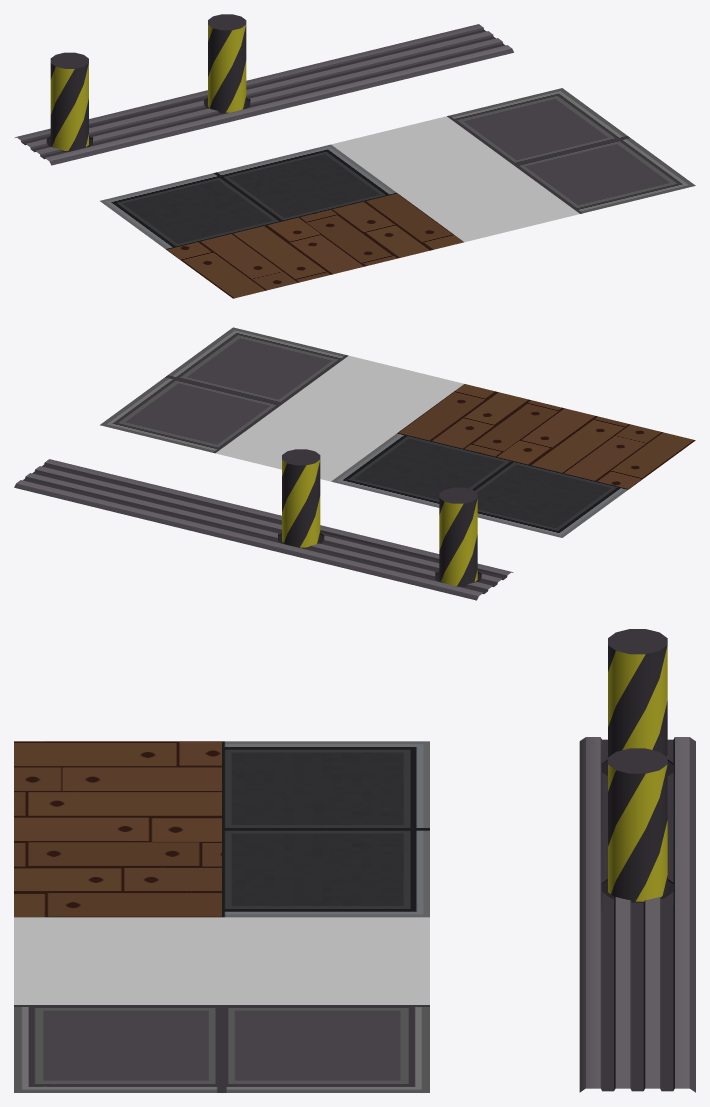
File: AirlockFloorTile.fbx
3 views of the same model, one above another, from view 1: azimuth 30°, elevation 25°; view 2: azimuth 150°, elevation 25°; view 3: azimuth 270°, elevation 25° (orthographic). The views are drawn at different scales.
Visible parts, largest first — view 1: AirlockFloorTileNS, AirlockFloorTileEW, AirlockFloorTrack, AirlockFloorTrackV2Bolts, AirlockFloorTrackV2; view 2: AirlockFloorTileNS, AirlockFloorTileEW, AirlockFloorTrack, AirlockFloorTrackV2Bolts, AirlockFloorTrackV2; view 3: AirlockFloorTileNS, AirlockFloorTileEW, AirlockFloorTrack, AirlockFloorTrackV2Bolts, AirlockFloorTrackV2.
Boxes of the visible parts, x1,y1,x2,y2 form: AirlockFloorTileNS: (100, 144, 463, 298); AirlockFloorTileEW: (331, 88, 695, 242); AirlockFloorTrack: (247, 24, 513, 108); AirlockFloorTrackV2Bolts: (50, 14, 246, 150); AirlockFloorTrackV2: (15, 80, 282, 165); AirlockFloorTileNS: (331, 384, 695, 537); AirlockFloorTileEW: (100, 327, 464, 481); AirlockFloorTrack: (14, 459, 280, 543); AirlockFloorTrackV2Bolts: (282, 449, 477, 585); AirlockFloorTrackV2: (245, 515, 513, 600); AirlockFloorTileNS: (14, 741, 429, 917); AirlockFloorTileEW: (14, 917, 429, 1092); AirlockFloorTrack: (579, 912, 695, 1092); AirlockFloorTrackV2Bolts: (608, 629, 667, 901); AirlockFloorTrackV2: (579, 737, 695, 916).
Bounding box in the file's own units: 2 × 0.3659 × 1.64.
